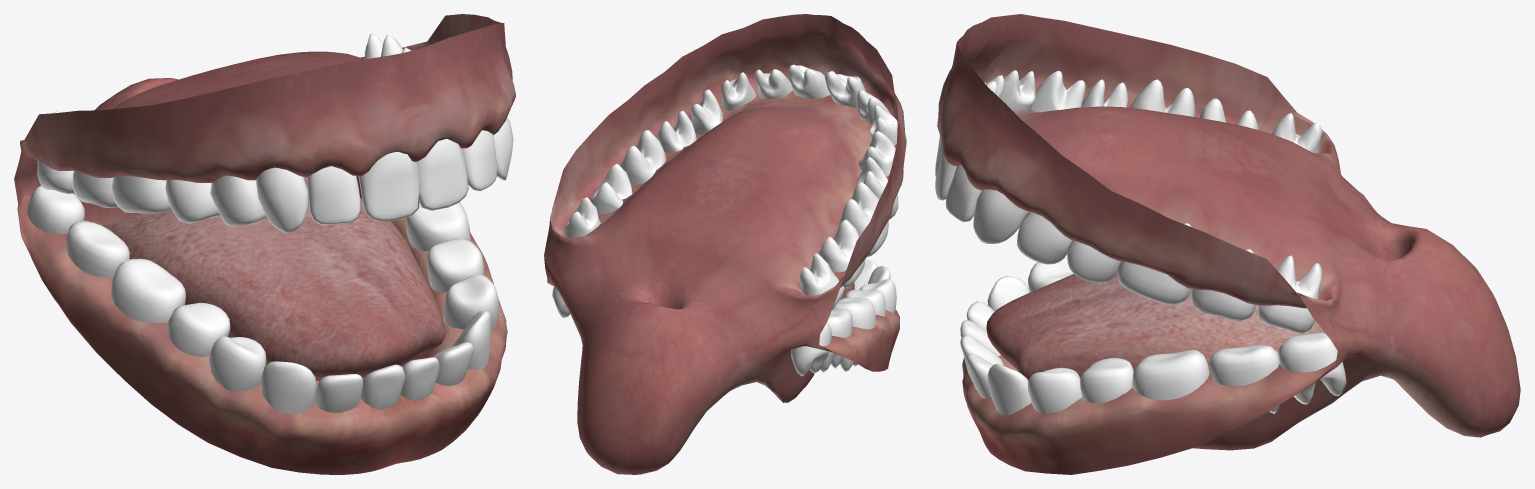
File: mouth.fbx
3 renders of one model, left to right at view 1: azimuth 30°, elevation 25°; view 2: azimuth 150°, elevation 25°; view 3: azimuth 270°, elevation 25°, orthographic. The views are drawn at different scales.
Parts seen in each view (by area): view 1: Gums, 30.Molar (1st Molar), 8.Incisor (Central), 9Incisor (Central), 7.Incisor (Lateral), 31.Molar (2nd Molar), 6.Canine (Eye tooth / Cuspid), 28.Bicuspid (1st), 29.Bicuspid (2nd), 27.Canine (Eye tooth / Cuspid), 20.Bicuspid (2nd), 21.Bicuspid (1st) (+15 smaller); view 2: Gums, 14.Molar (1st), 2.Molar (2nd Molar), 3.Molar (1st Molar), 15.Molar (2nd), 1.Wisdom Tooth (3rd Molar), 9Incisor (Central), 13.Bicuspid (2nd), 32.Wisdom Tooth (3rd Molar), 30.Molar (1st Molar), 8.Incisor (Central), 12.Bicuspid (1st) (+10 smaller); view 3: Gums, 19.Molar (1st Molar), 17.Wisdom Tooth (3rd Molar), 18.Molar (2nd Molar), 16.Wisdom Tooth (3rd Molar), 11.Canine (Eye tooth / Cuspid), 21.Bicuspid (1st), 12.Bicuspid (1st), 20.Bicuspid (2nd), 14.Molar (1st), 22.Canine (Eye tooth / Cuspid), 13.Bicuspid (2nd) (+13 smaller).
Boxes of the visible parts, x1,y1,x2,y2 form: Gums: [14, 14, 515, 474]; 30.Molar (1st Molar): [111, 258, 185, 323]; 8.Incisor (Central): [358, 151, 419, 221]; 9Incisor (Central): [416, 139, 468, 210]; 7.Incisor (Lateral): [307, 166, 360, 224]; 31.Molar (2nd Molar): [65, 220, 129, 277]; 6.Canine (Eye tooth / Cuspid): [256, 167, 307, 233]; 28.Bicuspid (1st): [209, 336, 266, 391]; 29.Bicuspid (2nd): [166, 302, 230, 356]; 27.Canine (Eye tooth / Cuspid): [261, 361, 316, 413]; 20.Bicuspid (2nd): [427, 238, 484, 292]; 21.Bicuspid (1st): [443, 274, 499, 330]; Gums: [544, 14, 906, 474]; 14.Molar (1st): [620, 130, 666, 184]; 2.Molar (2nd Molar): [818, 219, 864, 288]; 3.Molar (1st Molar): [838, 182, 888, 256]; 15.Molar (2nd): [591, 163, 632, 214]; 1.Wisdom Tooth (3rd Molar): [799, 253, 844, 309]; 9Incisor (Central): [788, 64, 830, 98]; 13.Bicuspid (2nd): [657, 111, 696, 152]; 32.Wisdom Tooth (3rd Molar): [791, 322, 831, 376]; 30.Molar (1st Molar): [832, 297, 876, 371]; 8.Incisor (Central): [824, 71, 866, 107]; 12.Bicuspid (1st): [691, 89, 722, 134]; Gums: [937, 14, 1520, 474]; 19.Molar (1st Molar): [1132, 350, 1209, 400]; 17.Wisdom Tooth (3rd Molar): [1278, 332, 1346, 404]; 18.Molar (2nd Molar): [1209, 345, 1279, 413]; 16.Wisdom Tooth (3rd Molar): [1258, 255, 1322, 333]; 11.Canine (Eye tooth / Cuspid): [973, 189, 1027, 243]; 21.Bicuspid (1st): [1027, 367, 1082, 414]; 12.Bicuspid (1st): [1017, 211, 1072, 264]; 20.Bicuspid (2nd): [1080, 358, 1133, 403]; 14.Molar (1st): [1117, 223, 1191, 305]; 22.Canine (Eye tooth / Cuspid): [987, 363, 1031, 415]; 13.Bicuspid (2nd): [1067, 240, 1120, 283].
Bounding box in the file's own units: 8.75 × 8.74 × 11.86.
